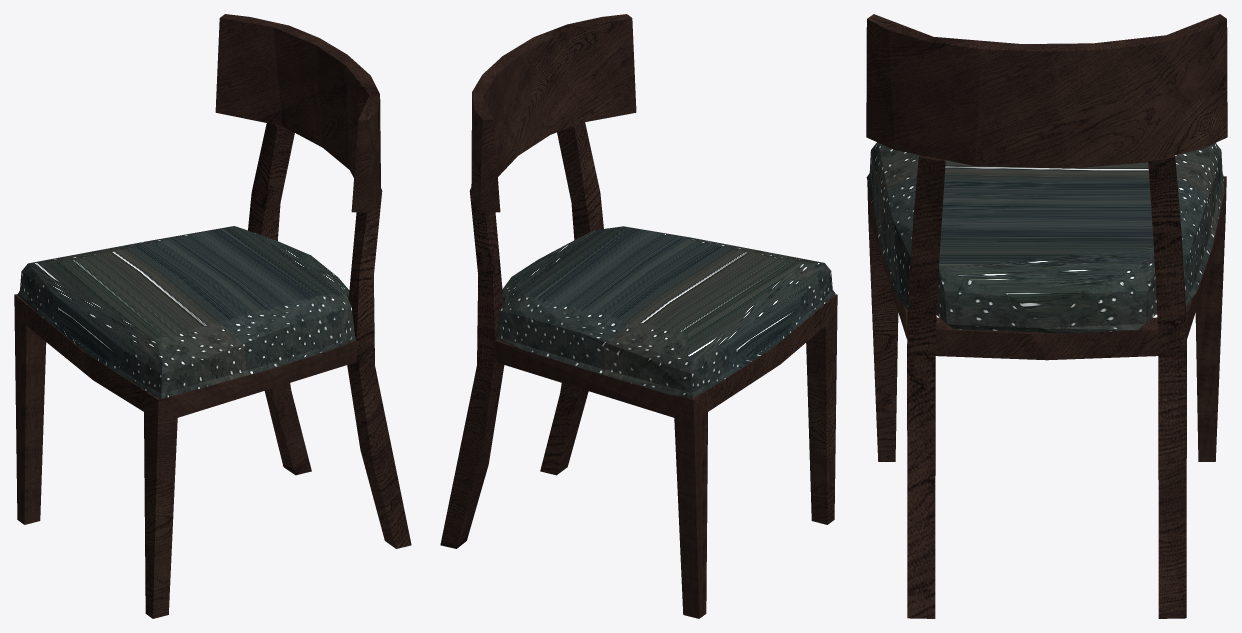
Rendered from Chair.fbx.
3 renders of one model, left to right at view 1: azimuth 30°, elevation 25°; view 2: azimuth 150°, elevation 25°; view 3: azimuth 270°, elevation 25°, orthographic. The views are drawn at different scales.
Parts seen in each view (by area): view 1: MAXALTO Chair N010923; view 2: MAXALTO Chair N010923; view 3: MAXALTO Chair N010923.
Boxes of the visible parts, left/top/right/bottom form: MAXALTO Chair N010923: left=14, top=14, right=411, bottom=618; MAXALTO Chair N010923: left=440, top=14, right=837, bottom=618; MAXALTO Chair N010923: left=866, top=14, right=1227, bottom=618.
Size of the model in its own units: 475 by 818 by 520.
2 materials, 2 textured.
